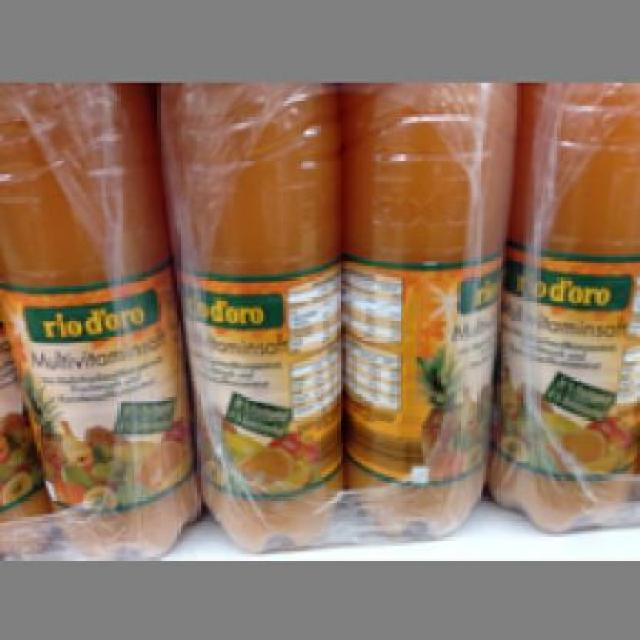Juice: (0, 80, 197, 549), (154, 80, 343, 540), (340, 80, 517, 537), (482, 80, 635, 529)
